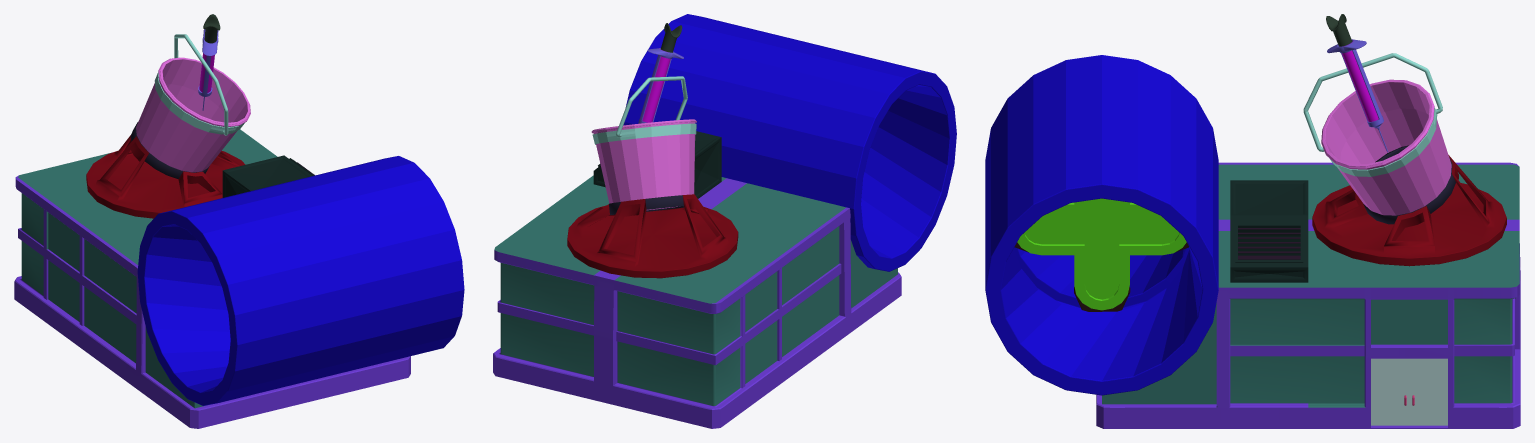
Rendered from Pharmacy.fbx.
3 views of the same model, side by side, from view 1: azimuth 30°, elevation 25°; view 2: azimuth 150°, elevation 25°; view 3: azimuth 270°, elevation 25° (orthographic). The views are drawn at different scales.
Visible parts, largest first — view 1: PharmacyBaseShape; view 2: PharmacyBaseShape; view 3: PharmacyBaseShape.
Part boxes in pixels (box(x1,y1,x2,y2)): PharmacyBaseShape: box(14, 14, 464, 428); PharmacyBaseShape: box(493, 14, 956, 428); PharmacyBaseShape: box(985, 14, 1520, 428).
Size of the model in its own units: 12.02 by 15.58 by 20.98.
